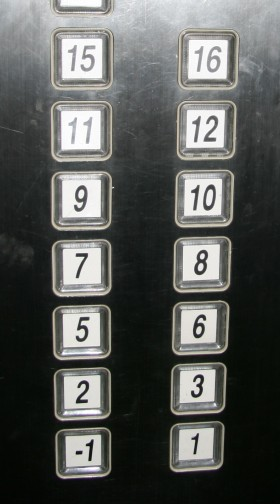button: (48, 26, 116, 91), (48, 99, 114, 163), (175, 27, 240, 91), (173, 99, 238, 162), (48, 169, 113, 231), (172, 168, 236, 230), (50, 302, 114, 363), (171, 233, 233, 295), (51, 237, 113, 298), (169, 298, 231, 357), (51, 365, 114, 423), (53, 426, 114, 482), (168, 361, 229, 416), (168, 420, 226, 474)
